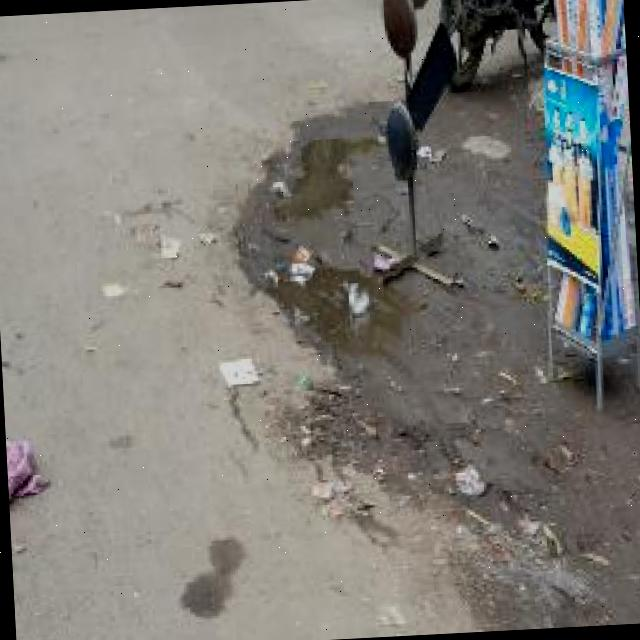stagnation: (258, 120, 374, 234)
